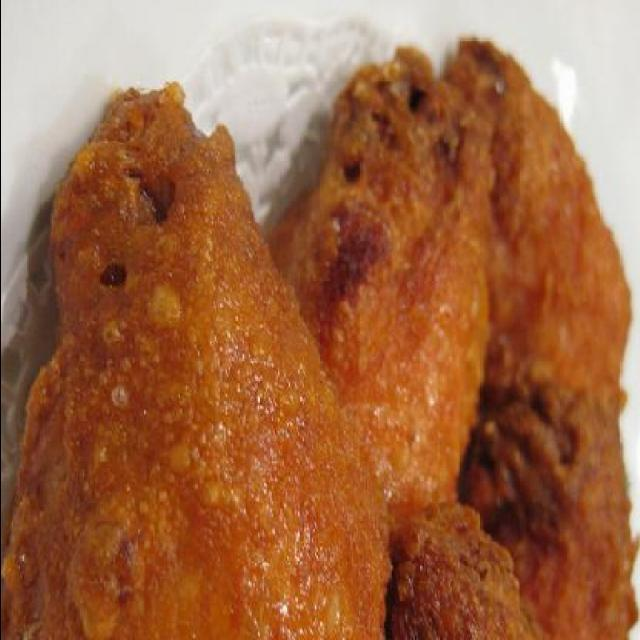Deep fried chicken wing: (5, 32, 637, 624)
